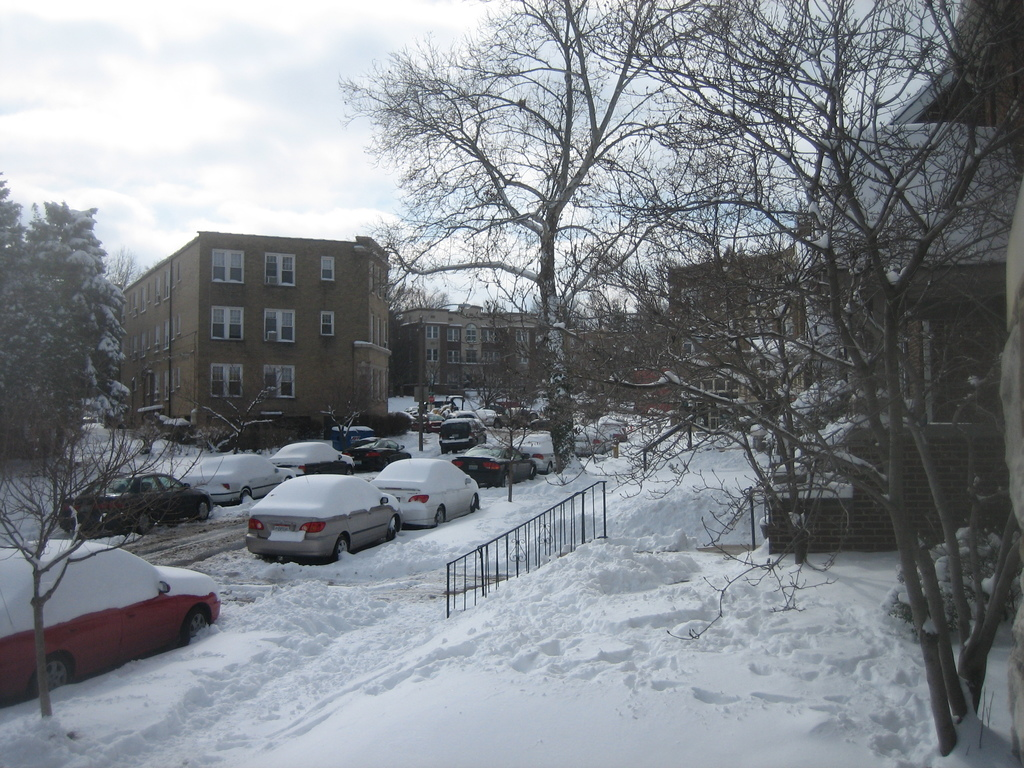cars: (0, 537, 215, 704), (239, 469, 407, 567), (58, 473, 218, 533), (367, 458, 478, 530), (180, 447, 287, 502), (450, 441, 537, 485), (521, 424, 574, 476), (435, 419, 488, 460)
